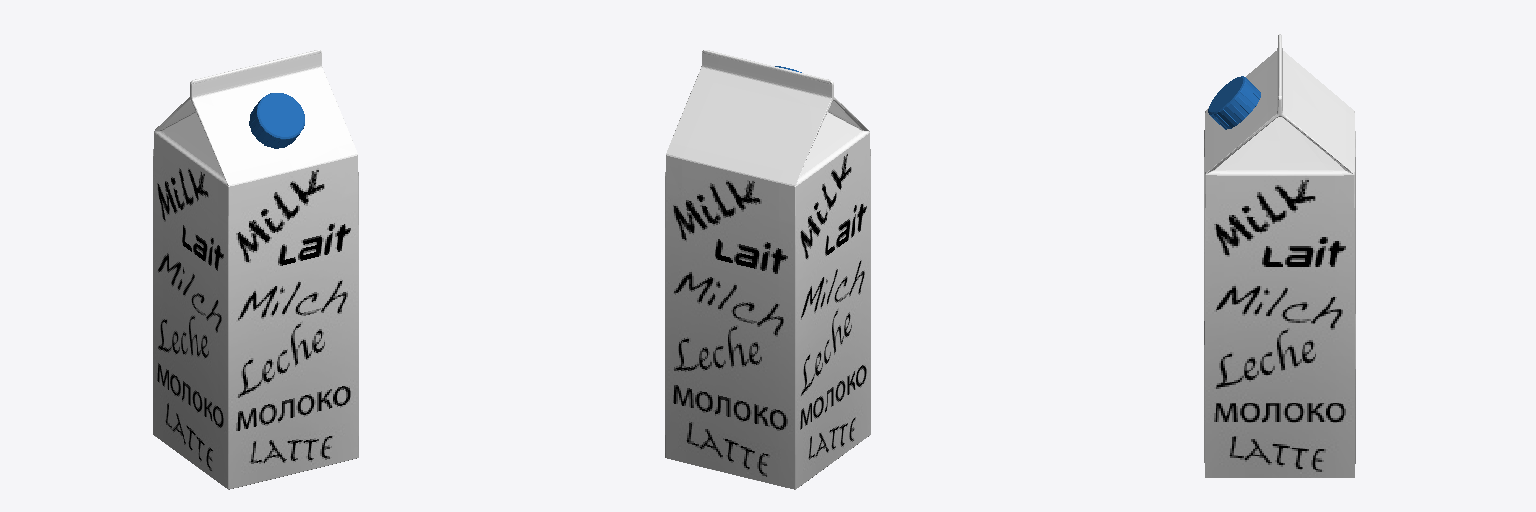
The picture shows the model from 3 angles: view 1: azimuth 30°, elevation 25°; view 2: azimuth 150°, elevation 25°; view 3: azimuth 270°, elevation 25°; orthographic projection.
Parts seen in each view (by area): view 1: tetrapak_Cube, cap_Cylinder; view 2: tetrapak_Cube; view 3: tetrapak_Cube, cap_Cylinder.
Boxes of the visible parts, box(x1,y1,x2,y2) form: tetrapak_Cube: box(153, 50, 358, 489); cap_Cylinder: box(249, 93, 304, 148); tetrapak_Cube: box(665, 50, 870, 489); tetrapak_Cube: box(1204, 34, 1355, 477); cap_Cylinder: box(1208, 76, 1260, 129).
Bounding box in the file's own units: 0.3606 × 1 × 0.3592.
2 materials, 1 textured.